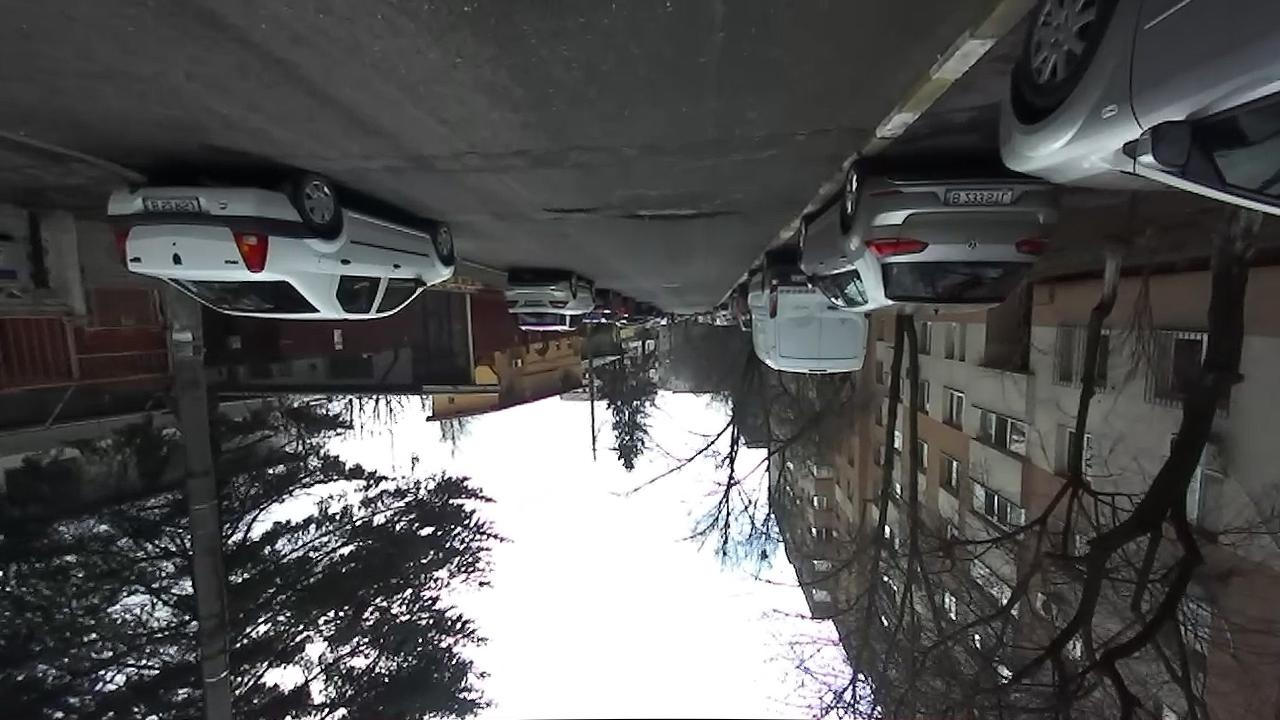pothole: (617, 200, 737, 223), (541, 204, 605, 216)
